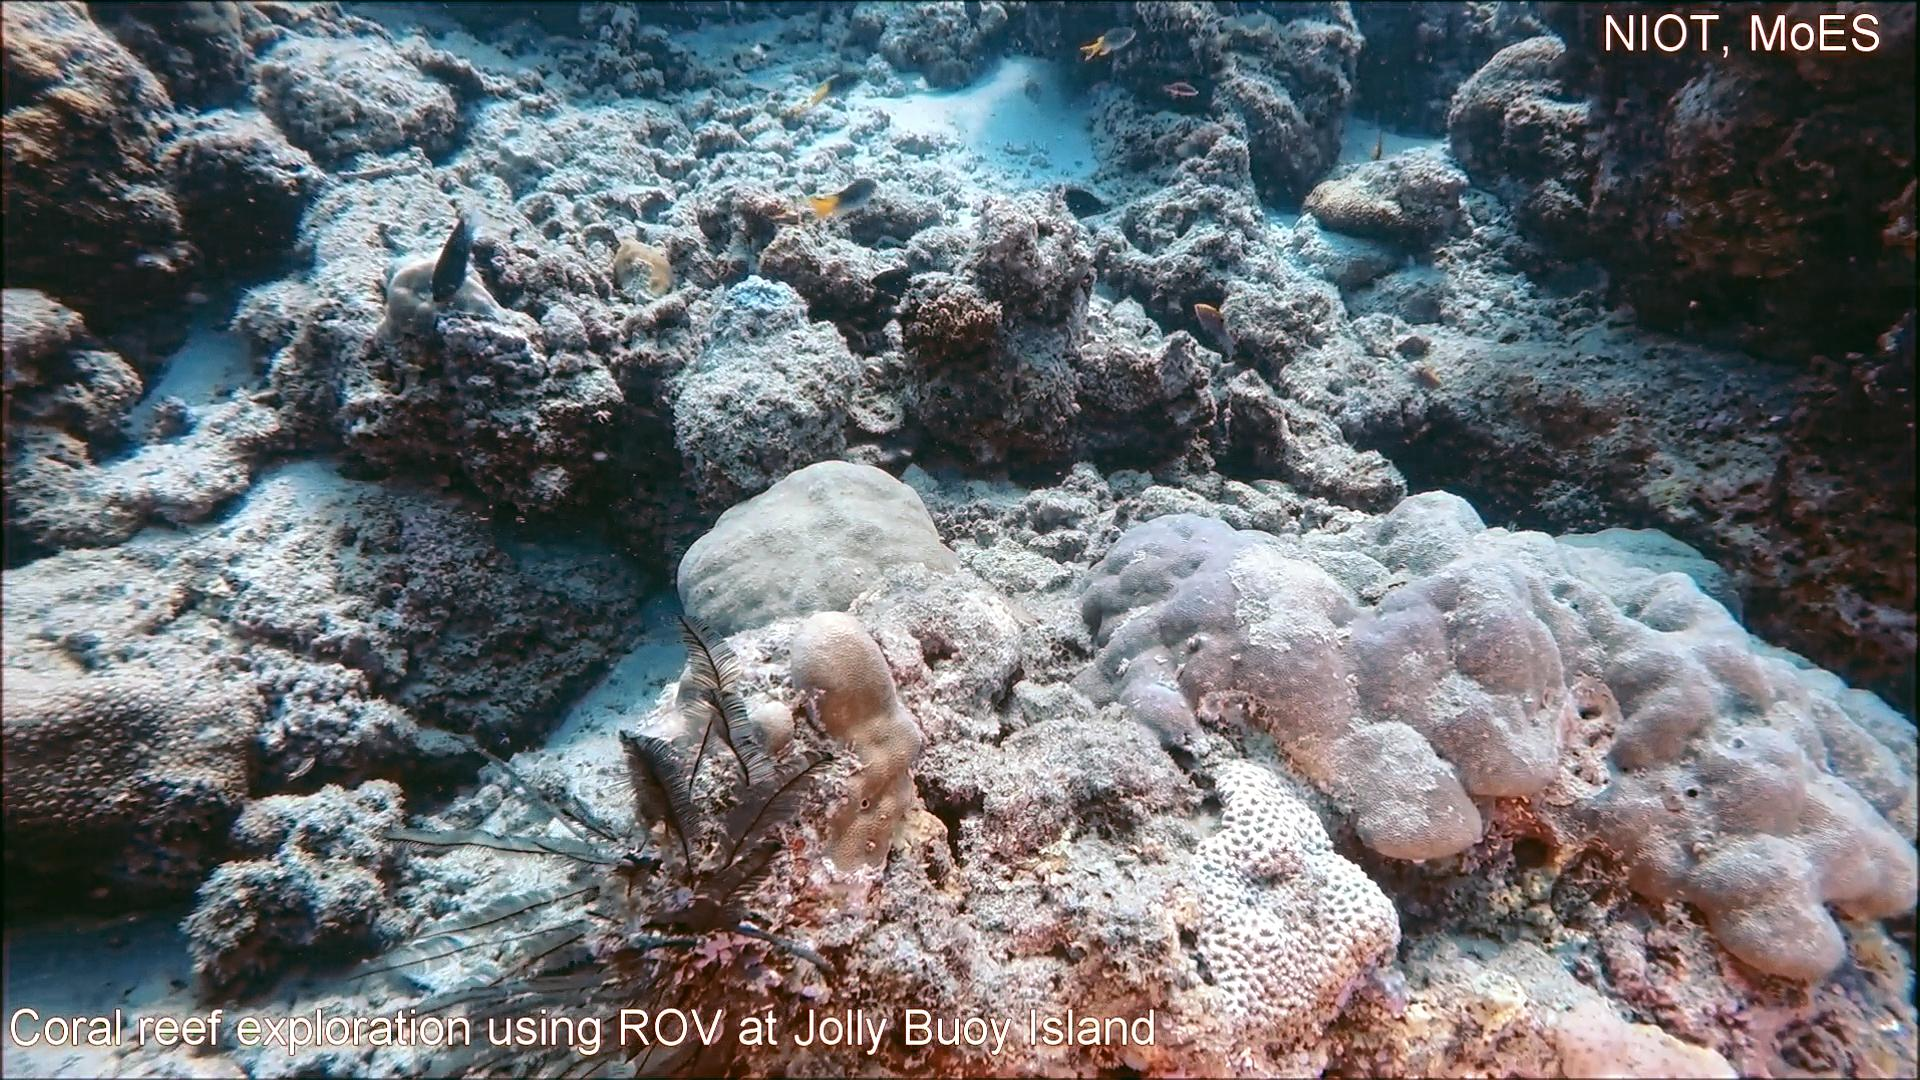Feather star-Crinoid star: (324, 600, 872, 1080)
Goniastrea-Goniastrea pectinata: (1160, 744, 1413, 1060)
Porites-Porites pukoensis: (1448, 482, 1920, 990)
Turbinaria-Turbinaria stellulata: (0, 654, 290, 870)
